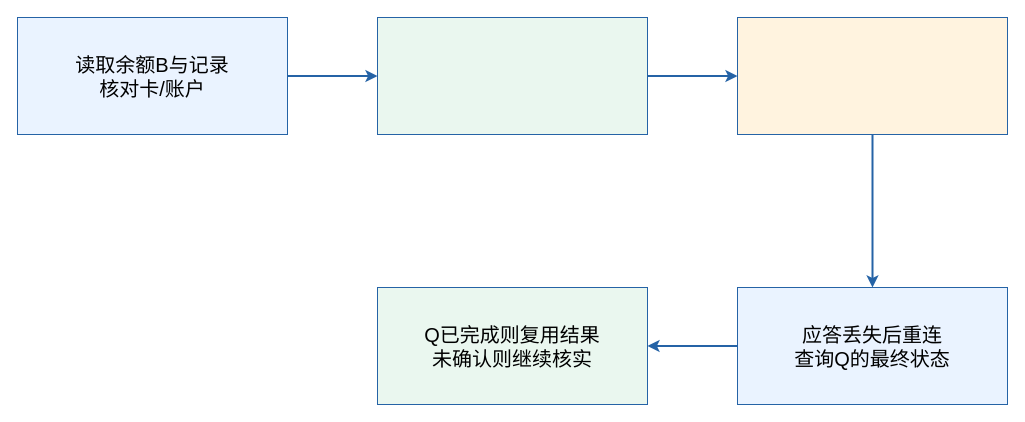
Image size: 1025x422. Some labels were removed from this diagram. Each missing label, with the box of its shape:
创建交易号Q 目标余额B−250: (376, 16, 648, 134)
提交Q与结果 采用支持的一致性方案: (736, 16, 1008, 134)
